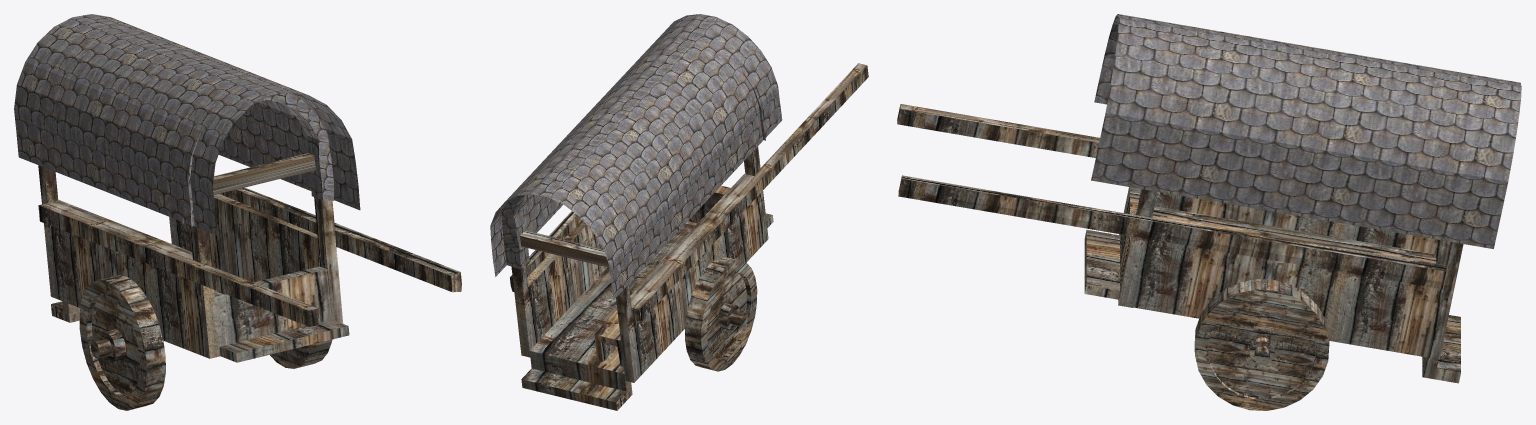
The model's file is gerobak.glb.
3 renders of one model, left to right at view 1: azimuth 30°, elevation 25°; view 2: azimuth 150°, elevation 25°; view 3: azimuth 270°, elevation 25°, orthographic. The views are drawn at different scales.
Parts seen in each view (by area): view 1: 1a; view 2: 1a; view 3: 1a.
Part boxes in pixels (<box>): 1a: <box>14,14,461,410</box>; 1a: <box>490,14,868,410</box>; 1a: <box>897,14,1521,410</box>.
Bounding box in the file's own units: 199 × 294 × 483.
Materials: 6 (6 with a texture image).
